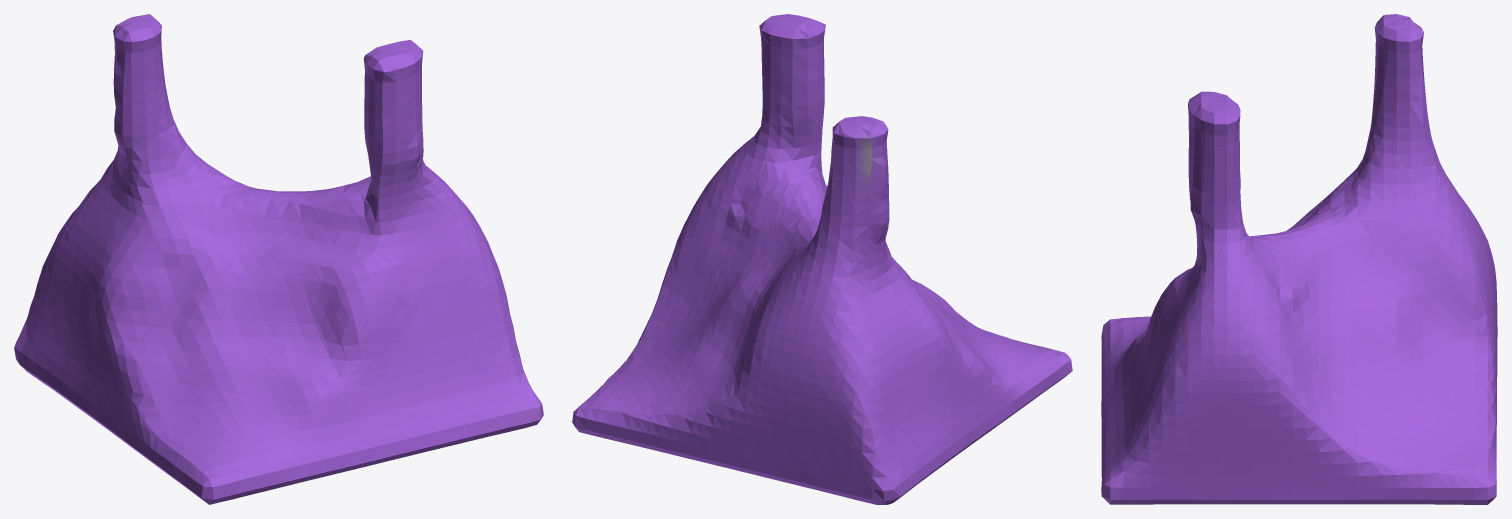
The model's file is NeuralPathwayChannels.fbx.
The picture shows the model from 3 angles, left to right: view 1: azimuth 30°, elevation 25°; view 2: azimuth 150°, elevation 25°; view 3: azimuth 270°, elevation 25°; orthographic projection. The views are drawn at different scales.
Visible parts, largest first — view 1: NeuralPathwaysChannels; view 2: NeuralPathwaysChannels; view 3: NeuralPathwaysChannels.
Boxes of the visible parts, x1,y1,x2,y2 form: NeuralPathwaysChannels: [14, 14, 543, 504]; NeuralPathwaysChannels: [572, 14, 1072, 504]; NeuralPathwaysChannels: [1101, 14, 1497, 504].
Bounding box in the file's own units: 99.93 × 100 × 100.
